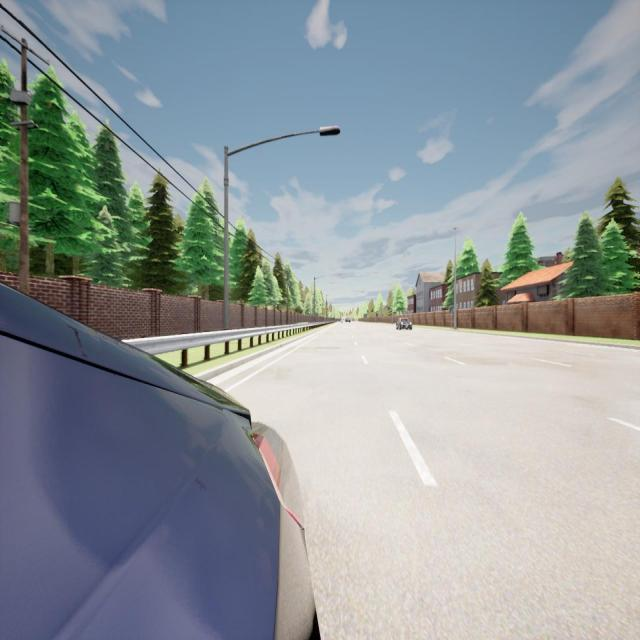Vehicle: (0, 284, 317, 638), (395, 317, 413, 331), (345, 315, 352, 324)
